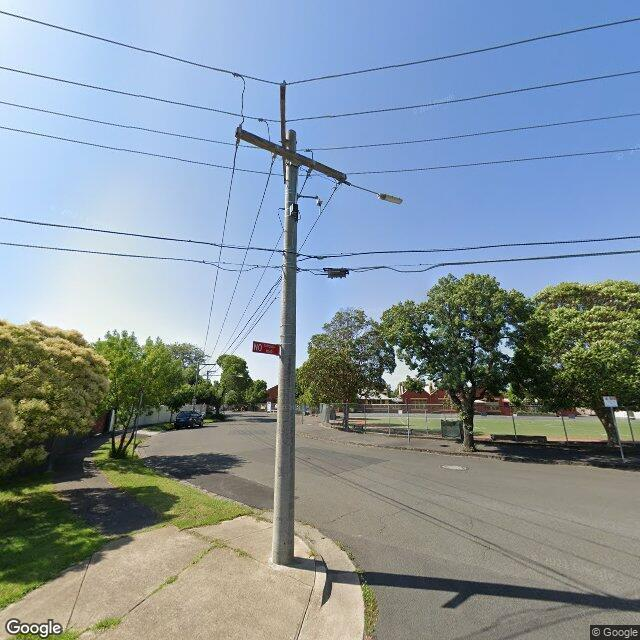concrete-pole: (271, 129, 297, 566)
crossarm: (236, 128, 346, 183), (279, 80, 286, 185)
streetlight: (345, 181, 403, 205)
